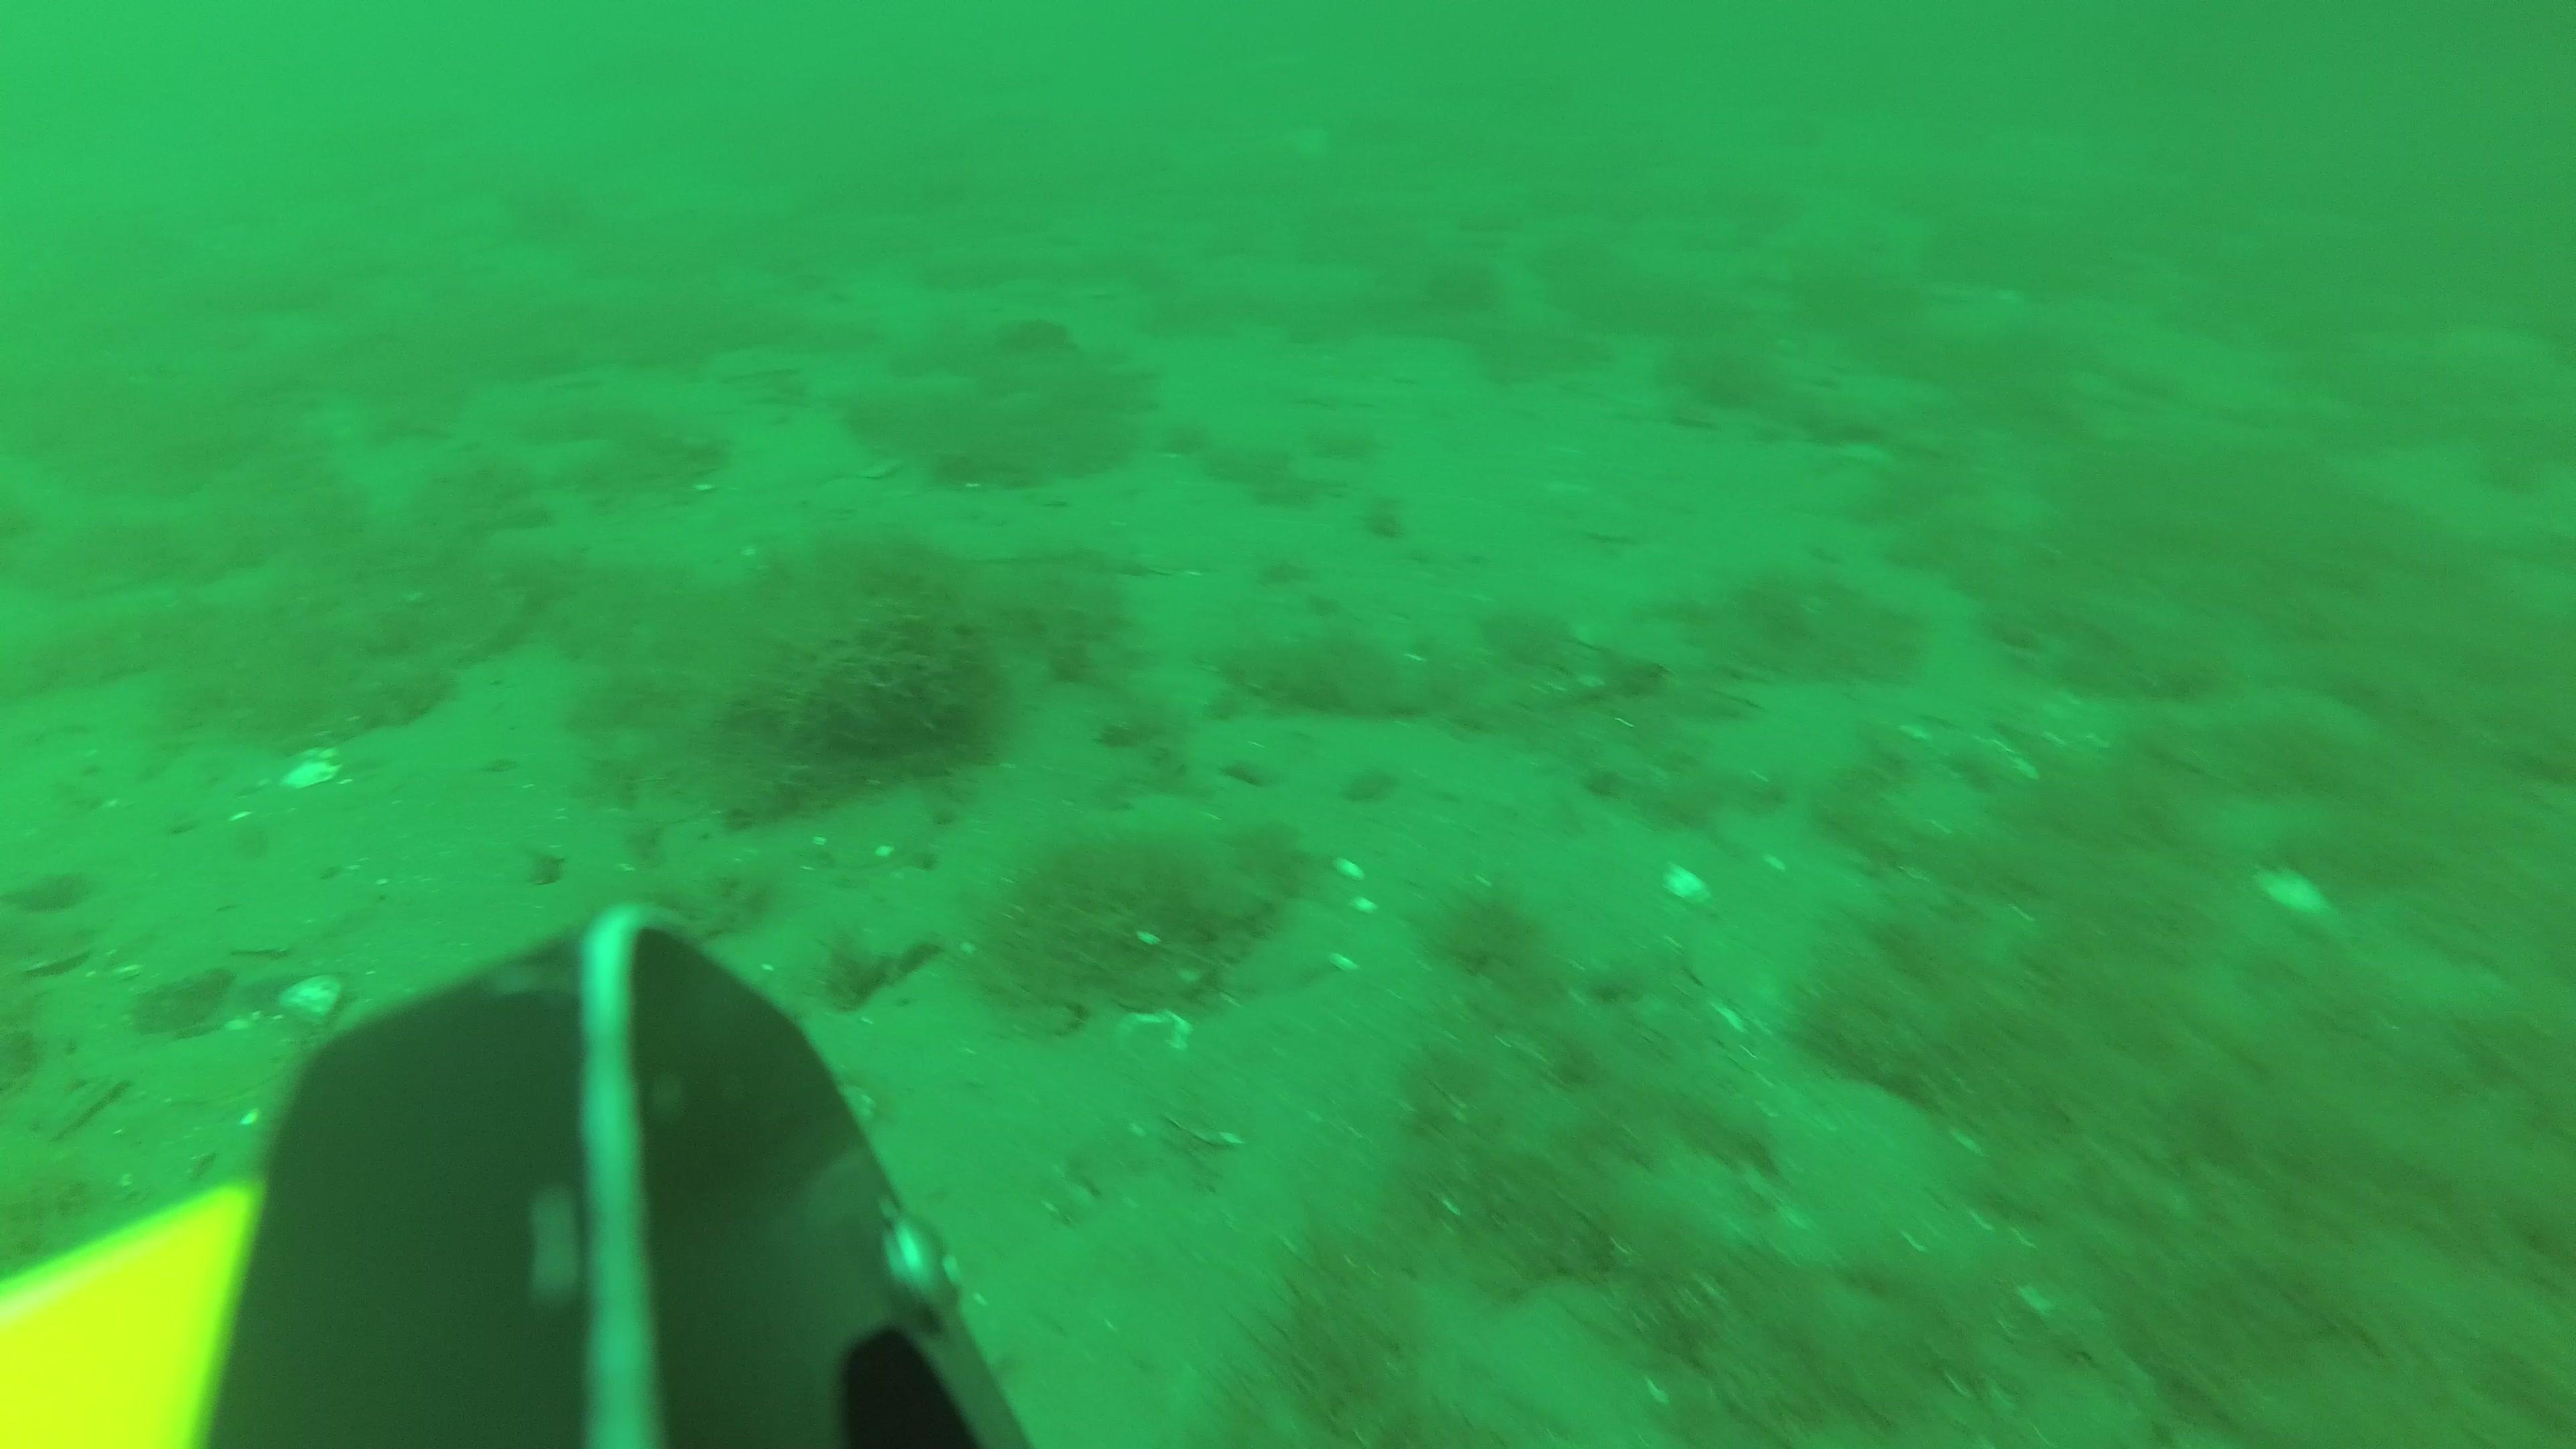scallop: (821, 791, 931, 878), (1116, 1008, 1194, 1070)
